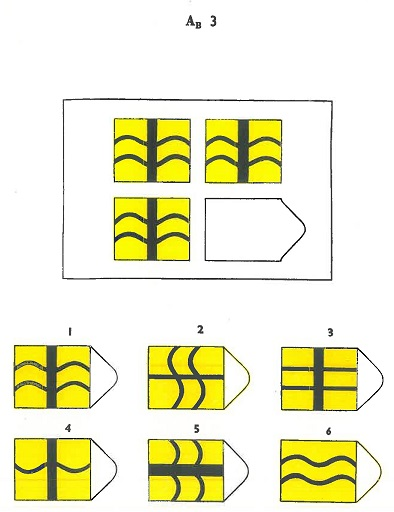Array 1: (9, 323, 121, 413)
Array 2: (143, 320, 254, 414)
Array 3: (275, 322, 387, 415)
Array 4: (11, 420, 120, 504)
Array 5: (143, 420, 254, 505)
Array 6: (276, 423, 386, 506)
Matrix 1: (109, 113, 194, 187)
Matrix 2: (201, 114, 287, 188)
Matrix 3: (110, 193, 195, 266)
Matrix Unknown: (201, 194, 308, 265)
